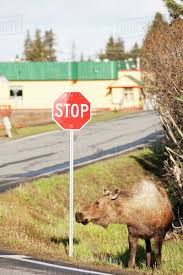Stop: (52, 92, 91, 135)
